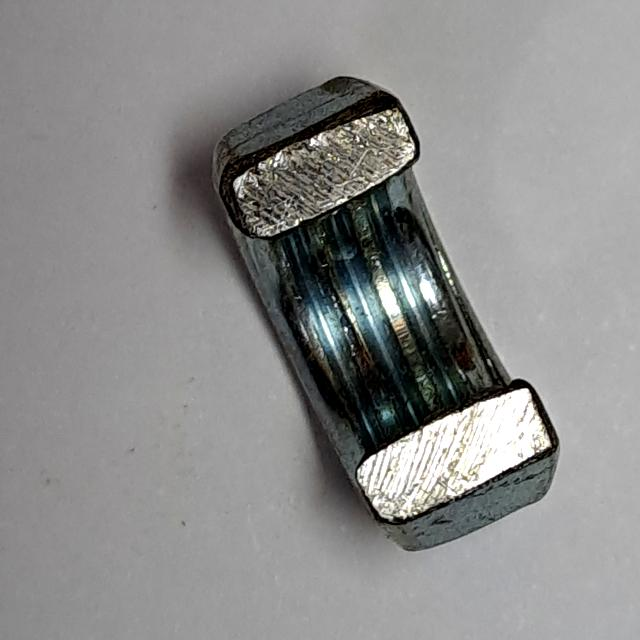Side-Fracture: (194, 61, 575, 567)
